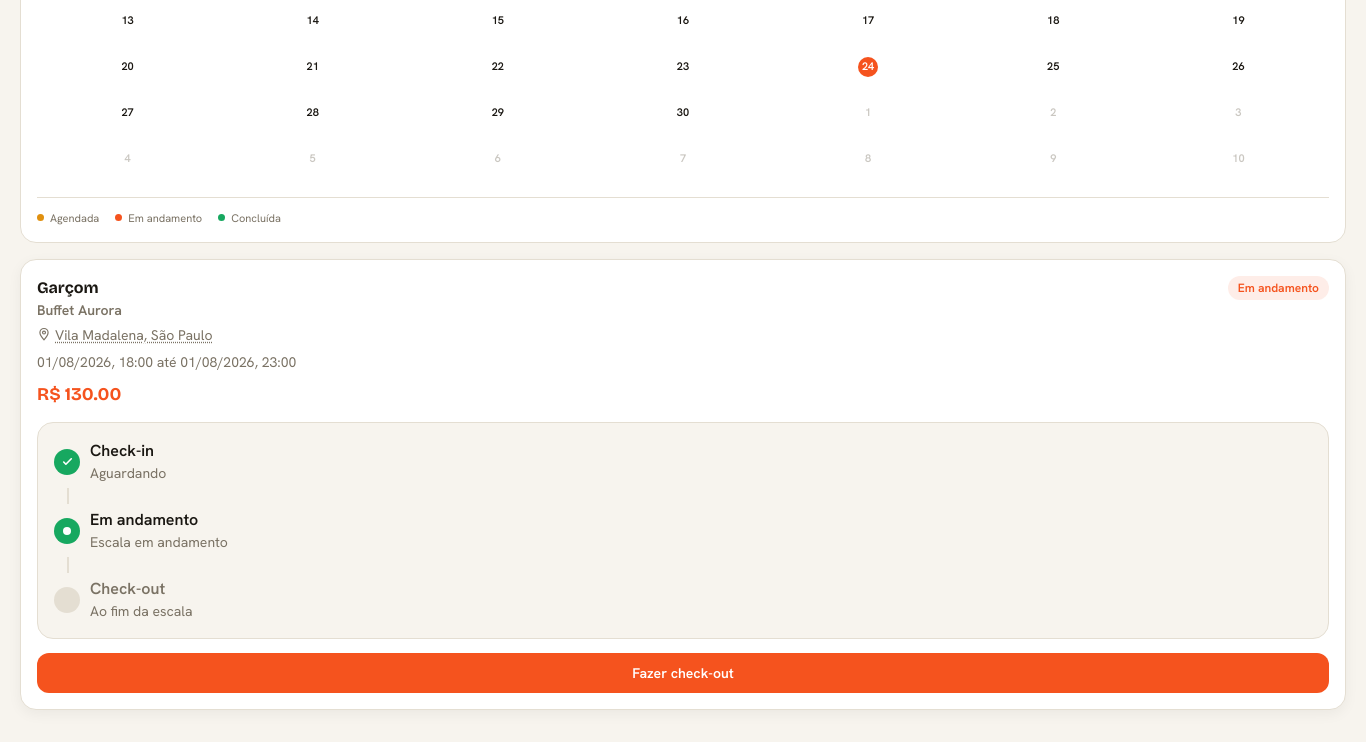
Scenario: AgendaPage › mostra a mensagem da API quando o check-out é rejeitado
(page scrolled)
Click the button "Fazer check-out": x=683, y=673 [37,653,1329,693]
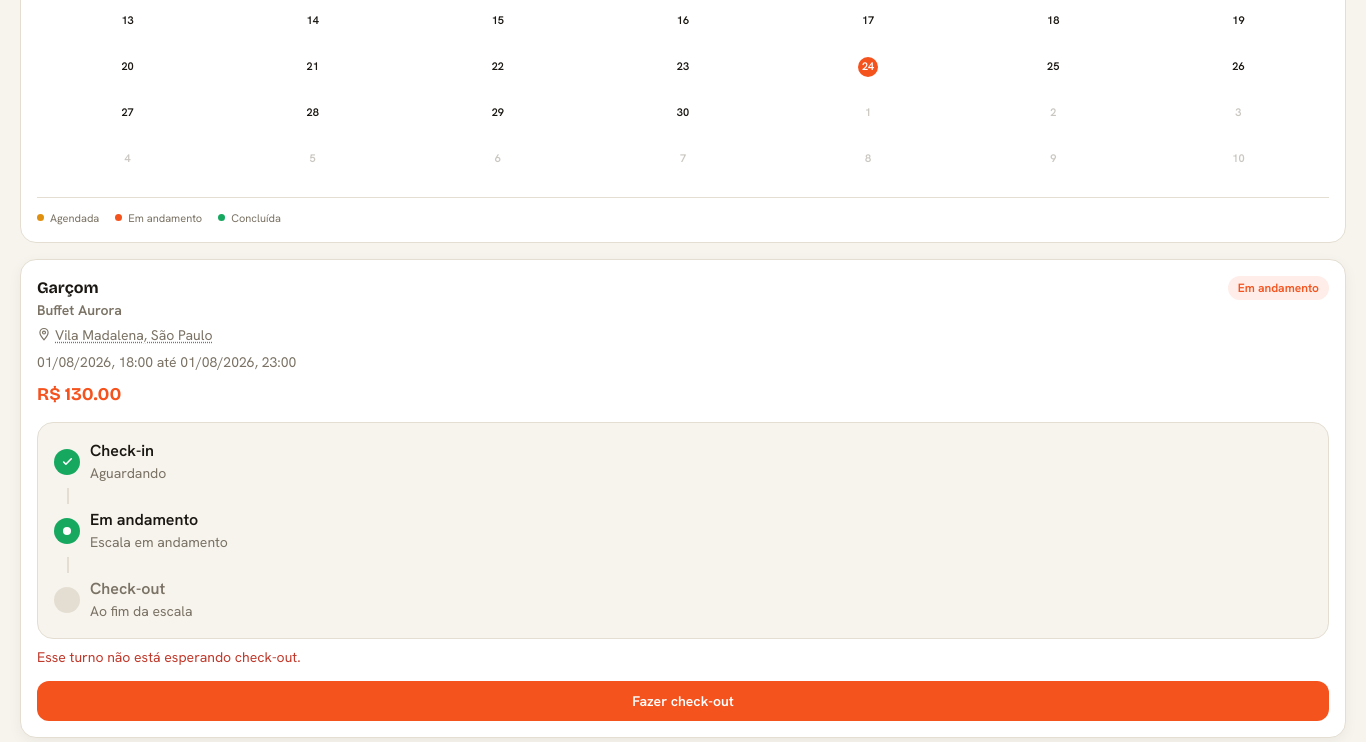
Now the text "Esse turno não está esperando check-out." is shown, box [37,648,300,666]
